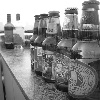beer: (35, 6, 68, 83)
